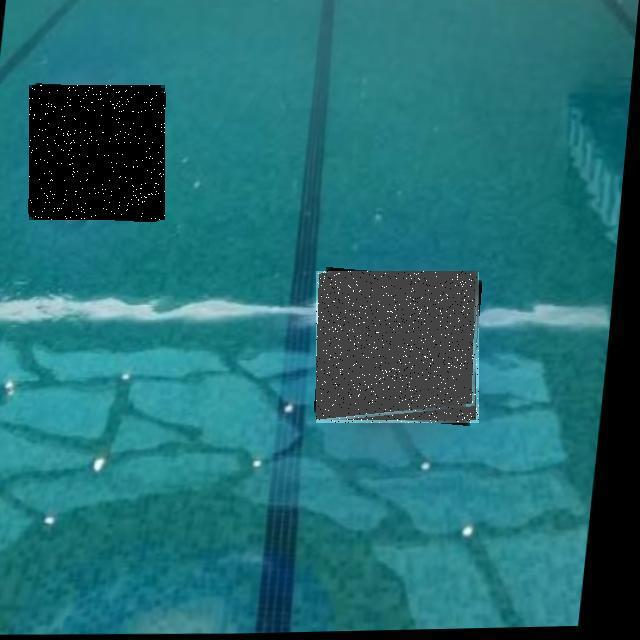swimming: (316, 271, 479, 423), (29, 85, 165, 220)
